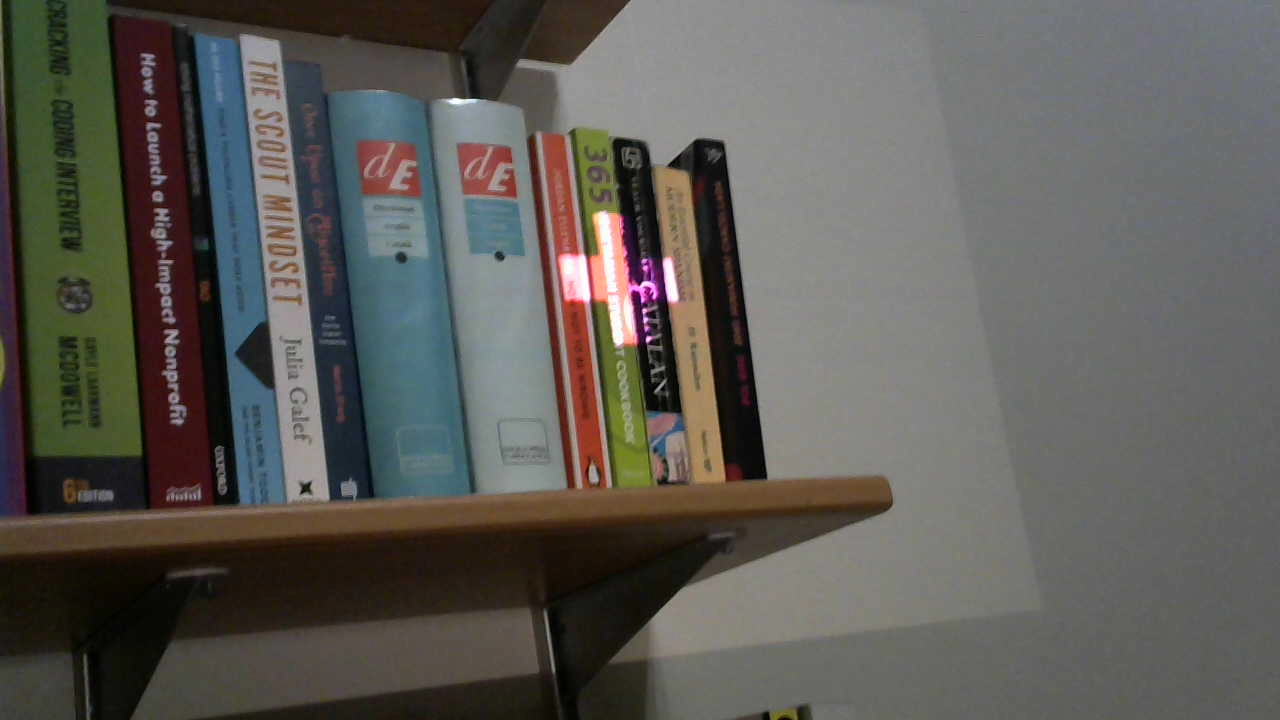calibration_symbol: (556, 211, 679, 348)
